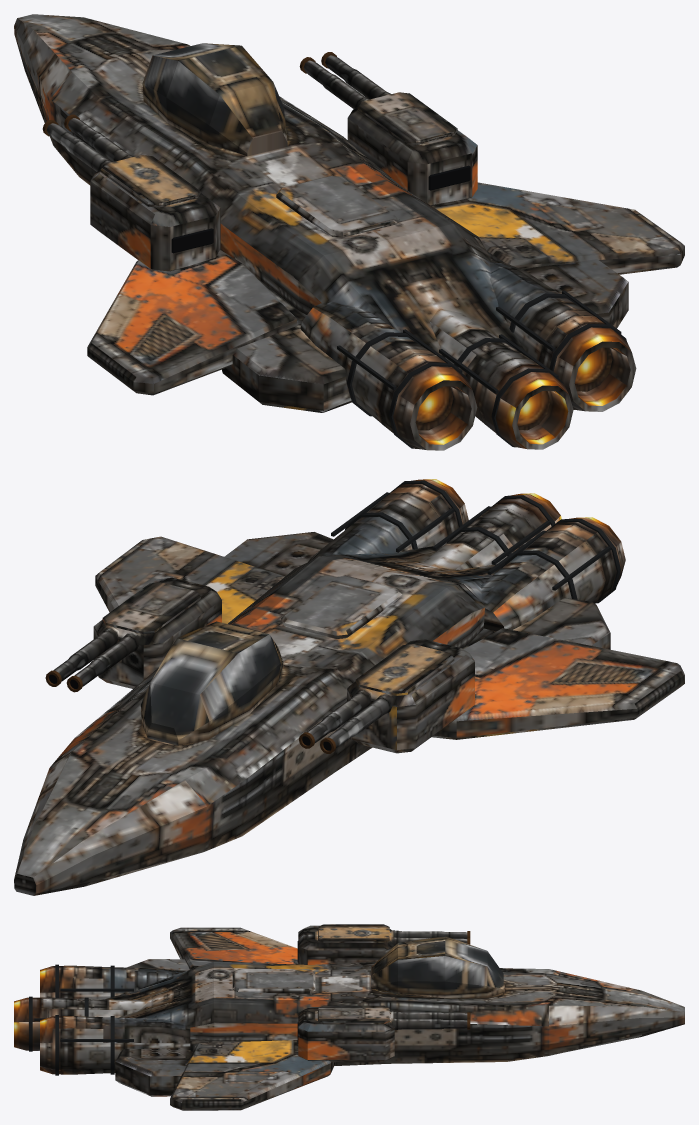
The model's file is privateer-raider.obj.
3 renders of one model, top to bottom at view 1: azimuth 30°, elevation 25°; view 2: azimuth 150°, elevation 25°; view 3: azimuth 270°, elevation 25°, orthographic. The views are drawn at different scales.
Parts seen in each view (by area): view 1: armored.pressure.hull, port.swept.wing, starboard.swept.wing, raised.cockpit, port.engine.haunch, port.gun.mount, engine.0.motor, starboard.gun.mount, engine.0.nozzle, engine.2.nozzle, engine.1.nozzle, aft.dorsal.plate (+15 smaller); view 2: armored.pressure.hull, port.swept.wing, raised.cockpit, starboard.swept.wing, engine.0.motor, port.gun.mount, engine.2.motor, aft.dorsal.plate, starboard.gun.mount, engine.1.motor, port.engine.haunch, starboard.gun.top.plate (+9 smaller); view 3: armored.pressure.hull, starboard.swept.wing, raised.cockpit, engine.2.motor, starboard.gun.mount, port.swept.wing, starboard.engine.haunch, engine.0.motor, port.gun.mount, aft.dorsal.plate, engine.2.nozzle, engine.1.motor (+8 smaller).
Part boxes in pixels (bbox=[...]): armored.pressure.hull: bbox=[14, 14, 524, 358]; port.swept.wing: bbox=[87, 250, 296, 395]; starboard.swept.wing: bbox=[431, 182, 684, 274]; raised.cockpit: bbox=[142, 43, 287, 156]; port.engine.haunch: bbox=[222, 278, 351, 412]; port.gun.mount: bbox=[90, 169, 220, 271]; engine.0.motor: bbox=[300, 301, 437, 425]; starboard.gun.mount: bbox=[347, 107, 477, 205]; engine.0.nozzle: bbox=[377, 354, 477, 450]; engine.2.nozzle: bbox=[537, 315, 636, 411]; engine.1.nozzle: bbox=[479, 360, 573, 449]; aft.dorsal.plate: bbox=[276, 175, 399, 237]; armored.pressure.hull: bbox=[14, 546, 501, 895]; port.swept.wing: bbox=[431, 628, 684, 739]; raised.cockpit: bbox=[140, 621, 283, 745]; starboard.swept.wing: bbox=[95, 536, 284, 623]; engine.0.motor: bbox=[481, 529, 606, 631]; port.gun.mount: bbox=[347, 639, 474, 753]; engine.2.motor: bbox=[308, 491, 448, 561]; aft.dorsal.plate: bbox=[281, 575, 402, 638]; starboard.gun.mount: bbox=[93, 577, 221, 688]; engine.1.motor: bbox=[424, 506, 540, 569]; port.engine.haunch: bbox=[462, 598, 610, 649]; starboard.gun.top.plate: bbox=[102, 582, 200, 634]; armored.pressure.hull: bbox=[105, 961, 684, 1065]; starboard.swept.wing: bbox=[170, 1040, 335, 1110]; raised.cockpit: bbox=[371, 936, 503, 998]; engine.2.motor: bbox=[73, 1016, 190, 1074]; starboard.gun.mount: bbox=[298, 1007, 394, 1062]; port.swept.wing: bbox=[170, 927, 298, 969]; starboard.engine.haunch: bbox=[115, 1039, 277, 1096]; engine.0.motor: bbox=[73, 965, 182, 999]; port.gun.mount: bbox=[298, 925, 394, 964]; aft.dorsal.plate: bbox=[232, 969, 315, 993]; engine.2.nozzle: bbox=[40, 1016, 75, 1074]; engine.1.motor: bbox=[47, 997, 147, 1017].
Bounding box in the file's own units: 12.25 × 3.57 × 19.88.
Materials: 5 (2 with a texture image).
